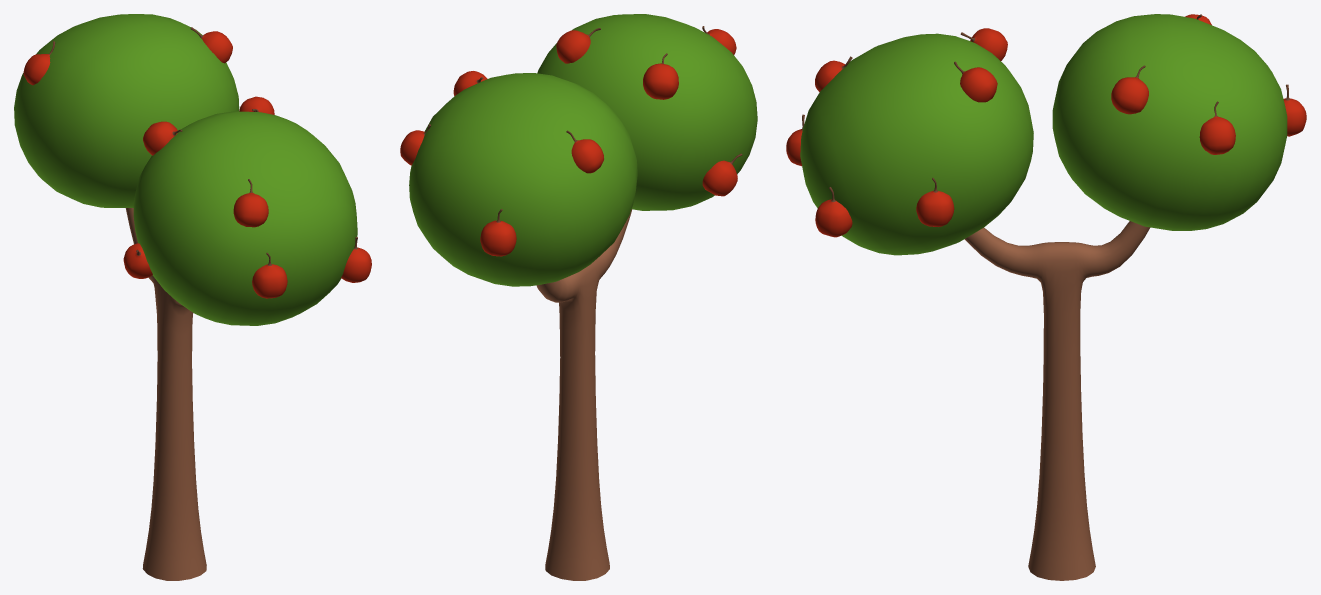
Rendered from tree6.fbx.
3 renders of one model, left to right at view 1: azimuth 30°, elevation 25°; view 2: azimuth 150°, elevation 25°; view 3: azimuth 270°, elevation 25°, orthographic. The views are drawn at different scales.
Parts seen in each view (by area): view 1: Cube.125; view 2: Cube.125; view 3: Cube.125.
Boxes of the visible parts, x1=… form: Cube.125: x1=14, y1=14, x2=371, y2=580; Cube.125: x1=400, y1=14, x2=757, y2=580; Cube.125: x1=786, y1=14, x2=1306, y2=580.
Size of the model in its own units: 2.39 by 4.73 by 5.41.
